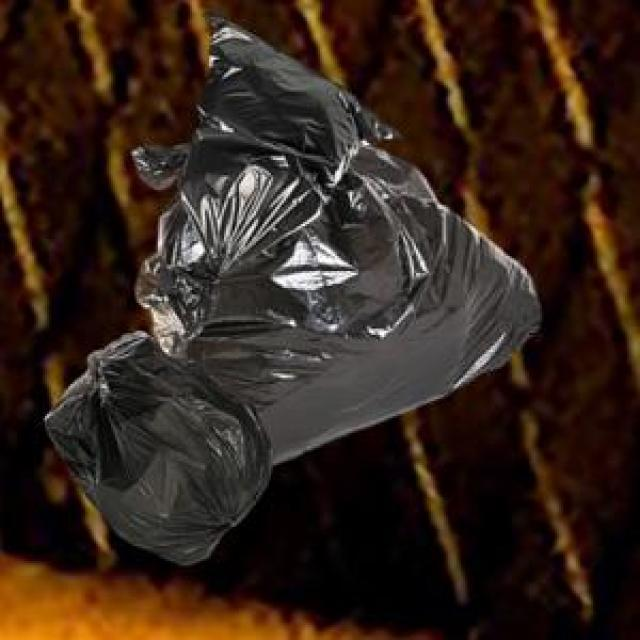Trashbag: (41, 322, 280, 570), (157, 26, 380, 269)
